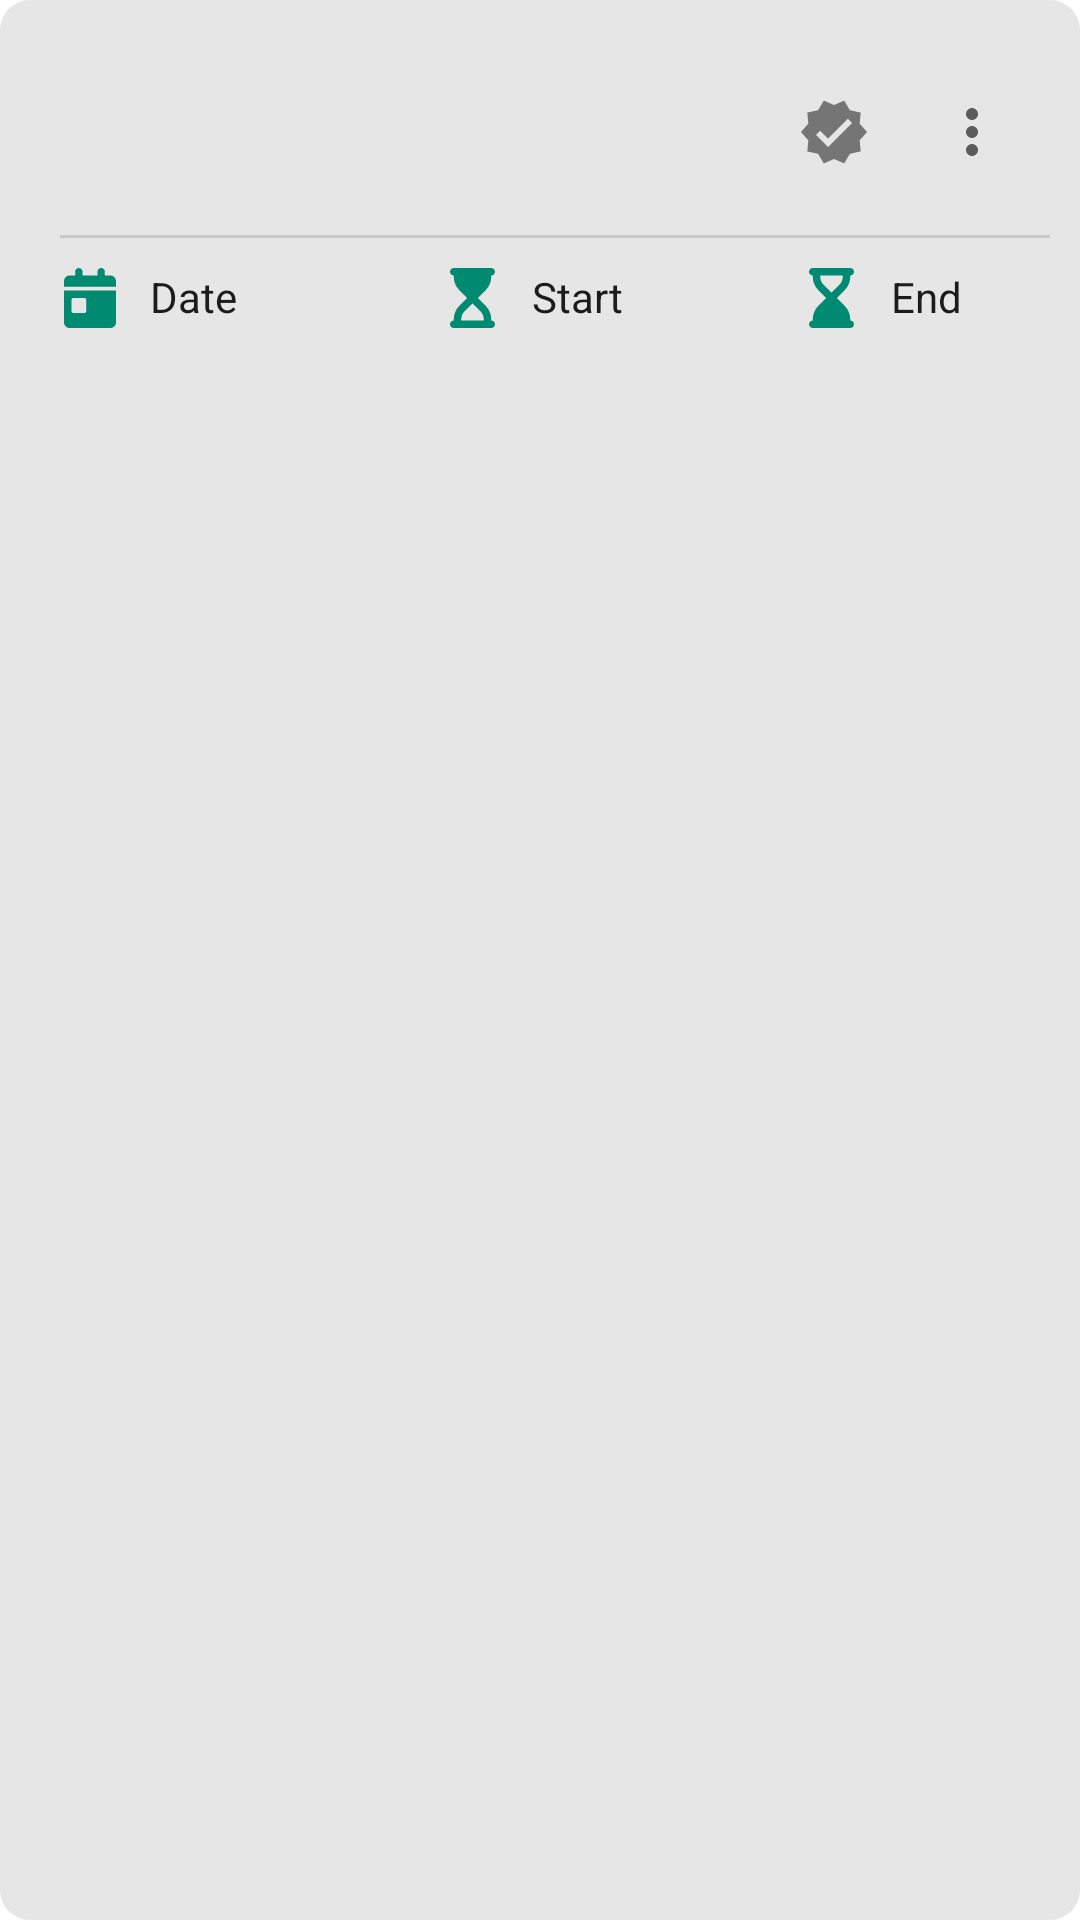

Named icons in this screenshot (1080px x 1920px) and their bounding boxes, box=[x1, y1, x2, y2]:
calendar day: box=[64, 268, 116, 328]
hourglass end: box=[809, 268, 854, 328]
Mark as Finished: box=[801, 101, 867, 163]
